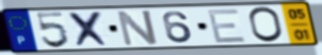5: (35, 10, 72, 49)
6: (161, 10, 194, 44)
E: (205, 7, 249, 44)
N: (115, 9, 160, 48)
O: (247, 6, 286, 44)
X: (66, 10, 113, 48)
